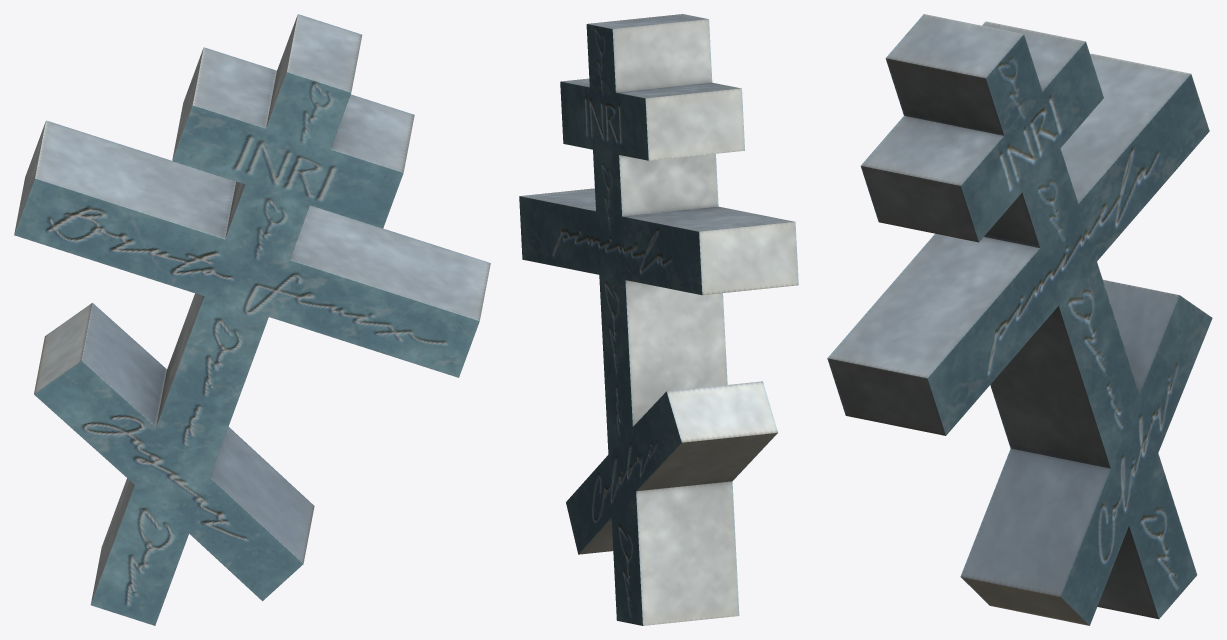
3 renders of one model, left to right at view 1: azimuth 30°, elevation 25°; view 2: azimuth 150°, elevation 25°; view 3: azimuth 270°, elevation 25°, orthographic. The views are drawn at different scales.
Parts seen in each view (by area): view 1: Cruz_Orto_Cube.011; view 2: Cruz_Orto_Cube.011; view 3: Cruz_Orto_Cube.011.
Part boxes in pixels (box(x1,y1,x2,y2)): Cruz_Orto_Cube.011: box(14, 14, 490, 625); Cruz_Orto_Cube.011: box(519, 14, 798, 625); Cruz_Orto_Cube.011: box(827, 14, 1212, 625).
Bounding box in the file's own units: 1.86 × 2.69 × 1.49.
